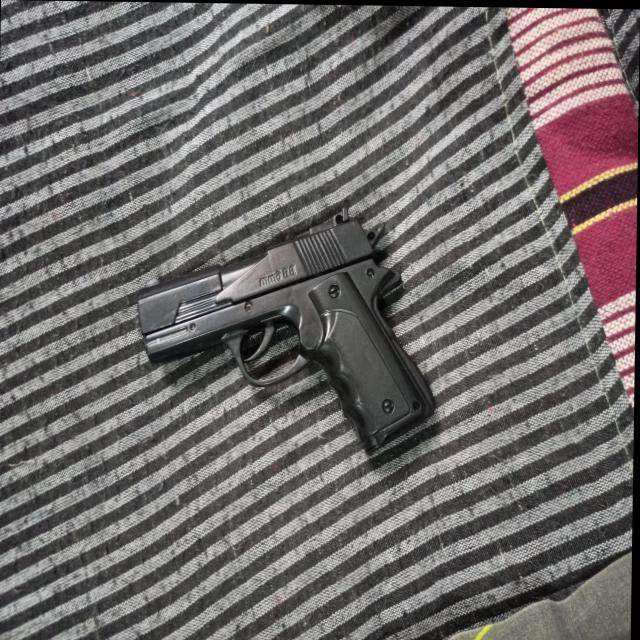handgun: (131, 206, 448, 466)
